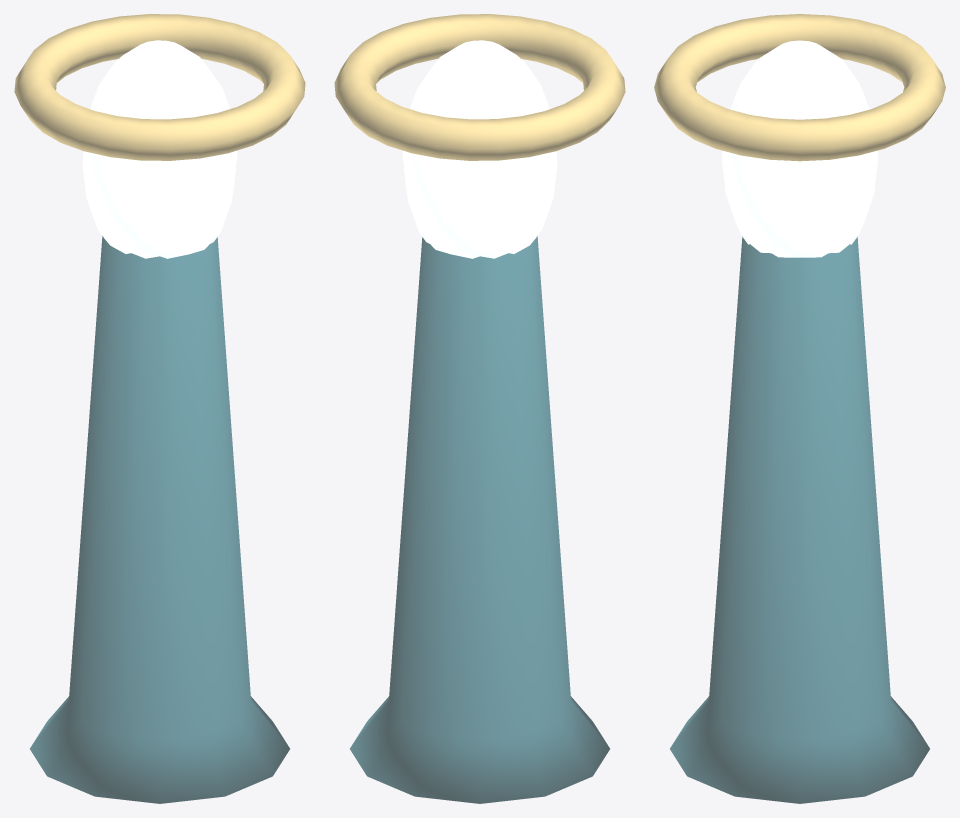
File: atlantis_detail_reef_lantern.glb
The picture shows the model from 3 angles, left to right: view 1: azimuth 30°, elevation 25°; view 2: azimuth 150°, elevation 25°; view 3: azimuth 270°, elevation 25°; orthographic projection.
Visible parts, largest first — view 1: atlantis_detail_reef_lantern_surface; view 2: atlantis_detail_reef_lantern_surface; view 3: atlantis_detail_reef_lantern_surface.
Boxes of the visible parts, x1,y1,x2,y2 form: atlantis_detail_reef_lantern_surface: (14,14,305,803); atlantis_detail_reef_lantern_surface: (334,14,625,803); atlantis_detail_reef_lantern_surface: (654,14,945,803).
Bounding box in the file's own units: 1.12 × 2.98 × 1.12.
